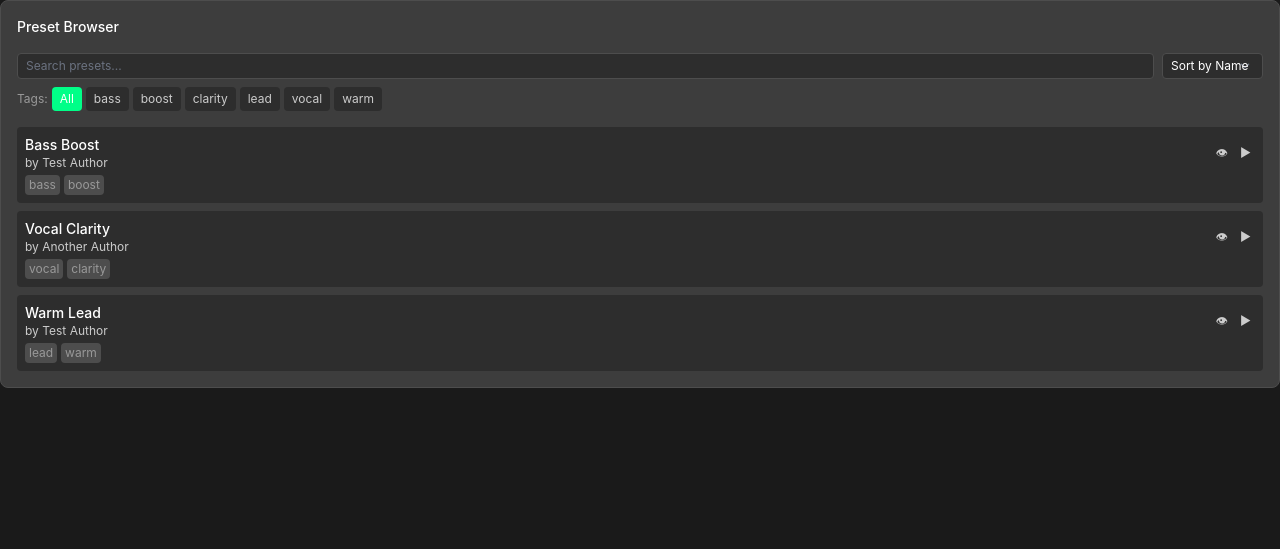
PluginPresetBrowser › should handle preset preview
The width and height of the screenshot is (1280, 549).
// Select a preset first
Click the text "Warm Lead" at (63, 313), box [25,303,101,323]
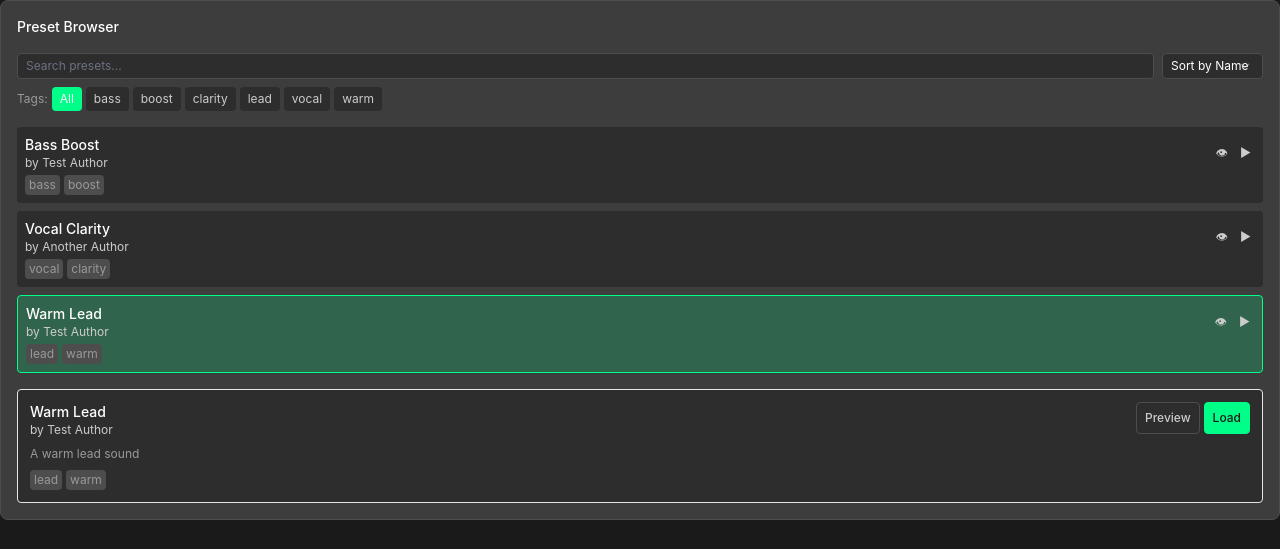
// Click preview button
Click the button "Preview" at (1168, 418), box [1136,402,1200,434]
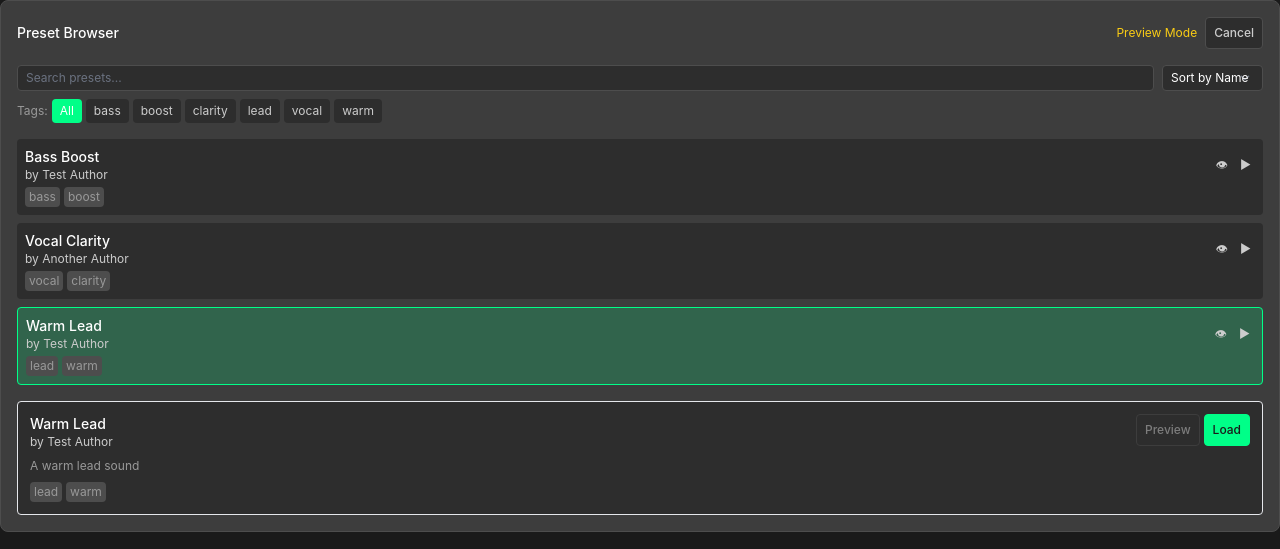
Result: the text "Preview Mode" is shown at [1116,25,1197,41]
